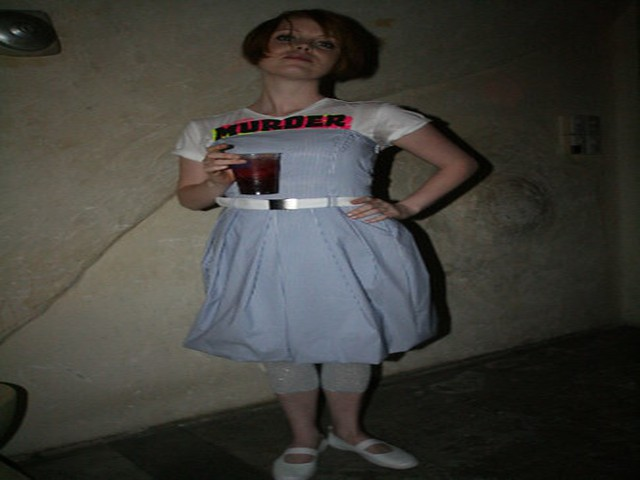Person: (181, 16, 479, 472)
